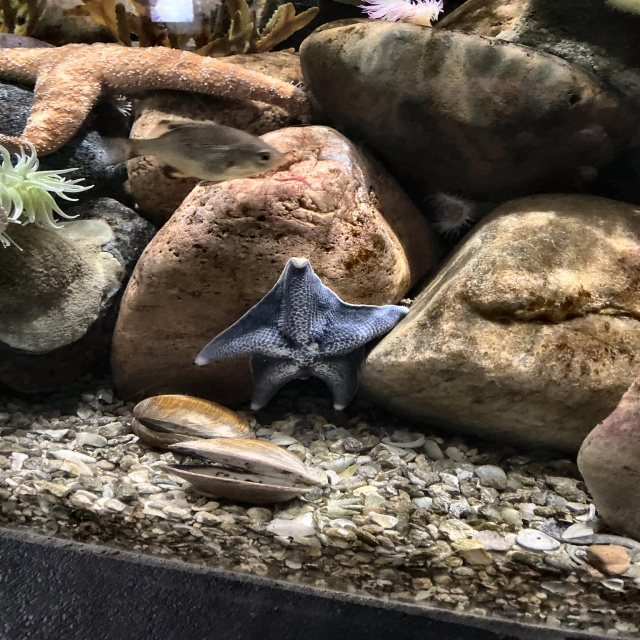fish: (114, 121, 286, 182)
starfish: (197, 261, 401, 413)
